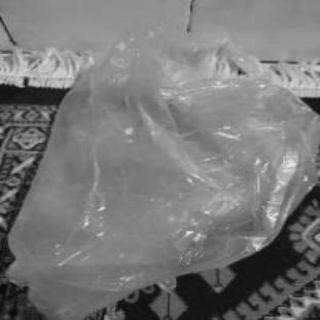objects: (0, 20, 320, 296)
